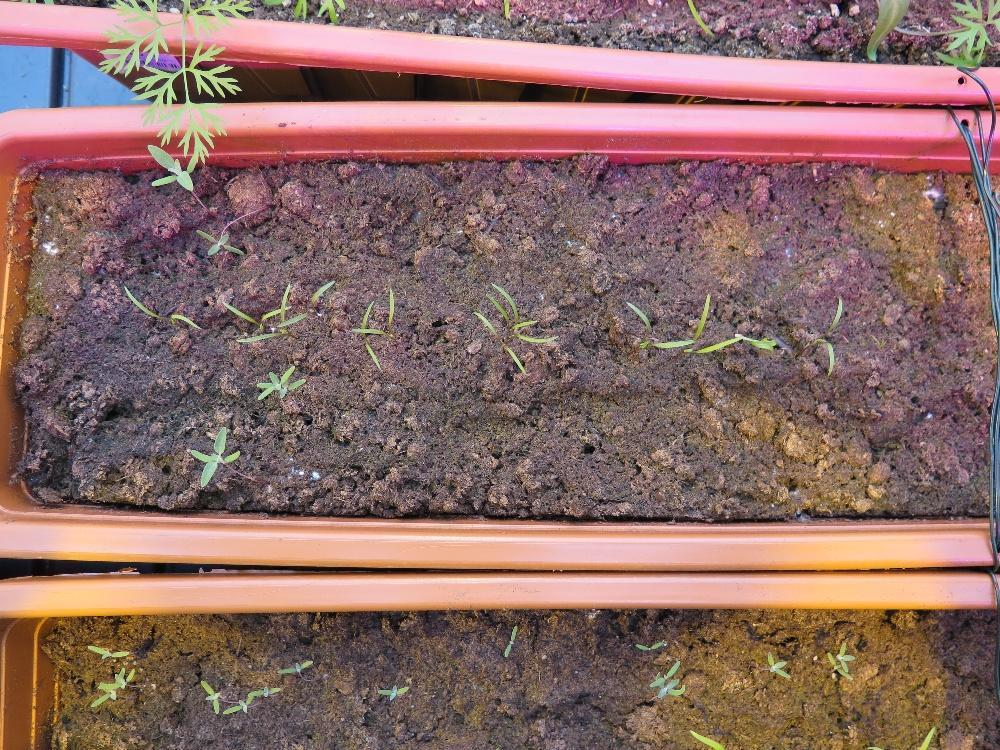crop: (121, 283, 202, 331), (817, 295, 842, 378)
weed: (186, 424, 241, 488), (195, 227, 245, 255), (198, 678, 219, 714), (766, 649, 790, 678), (275, 658, 312, 676), (375, 681, 408, 701), (86, 643, 129, 657), (502, 622, 517, 658), (634, 639, 663, 651)
